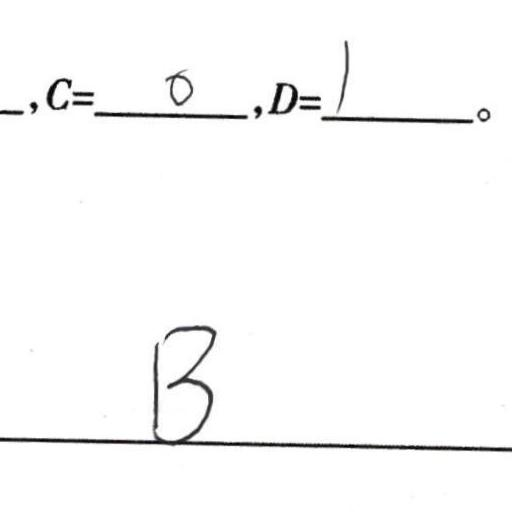ans: (141, 317, 219, 446), (330, 35, 355, 113), (163, 65, 196, 109)
